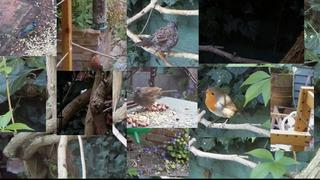blue tit: (20, 20, 37, 36)
dunnock: (132, 20, 179, 57), (132, 87, 178, 112)
robin: (201, 87, 250, 131)
